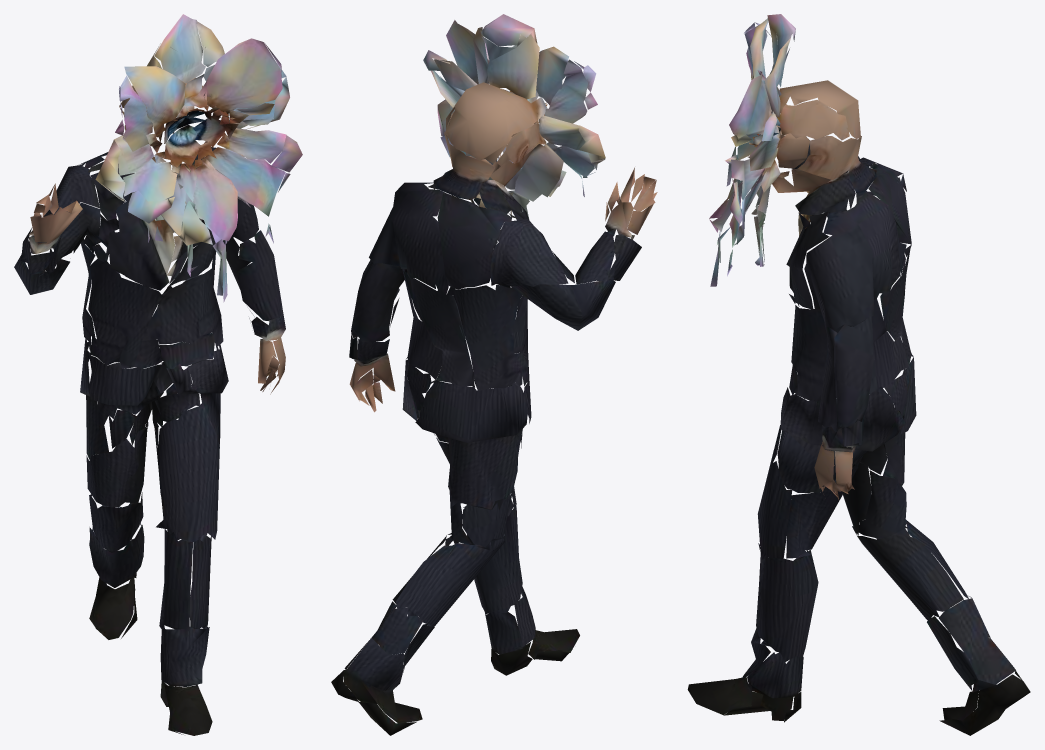
The model's file is crowd_wiseguy_full.glb.
3 renders of one model, left to right at view 1: azimuth 30°, elevation 25°; view 2: azimuth 150°, elevation 25°; view 3: azimuth 270°, elevation 25°, orthographic. The views are drawn at different scales.
Parts seen in each view (by area): view 1: tripo_node_096ba9d0-4f72-4ce4-bbae-e90f7e3d7e71; view 2: tripo_node_096ba9d0-4f72-4ce4-bbae-e90f7e3d7e71; view 3: tripo_node_096ba9d0-4f72-4ce4-bbae-e90f7e3d7e71.
Part boxes in pixels (left/top/right/bottom): tripo_node_096ba9d0-4f72-4ce4-bbae-e90f7e3d7e71: left=14, top=14, right=302, bottom=735; tripo_node_096ba9d0-4f72-4ce4-bbae-e90f7e3d7e71: left=331, top=14, right=657, bottom=735; tripo_node_096ba9d0-4f72-4ce4-bbae-e90f7e3d7e71: left=687, top=14, right=1030, bottom=735.
Bounding box in the file's own units: 0.4331 × 0.9987 × 0.4427.
1 material, 1 textured.
